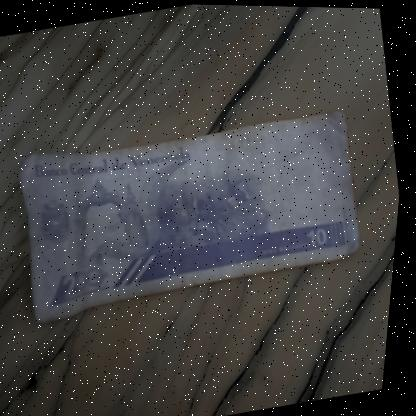ten-back-vef: (10, 95, 378, 326)
